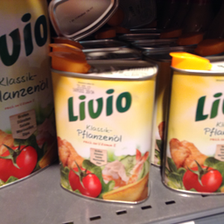oil: (48, 48, 158, 203), (163, 52, 224, 194)
